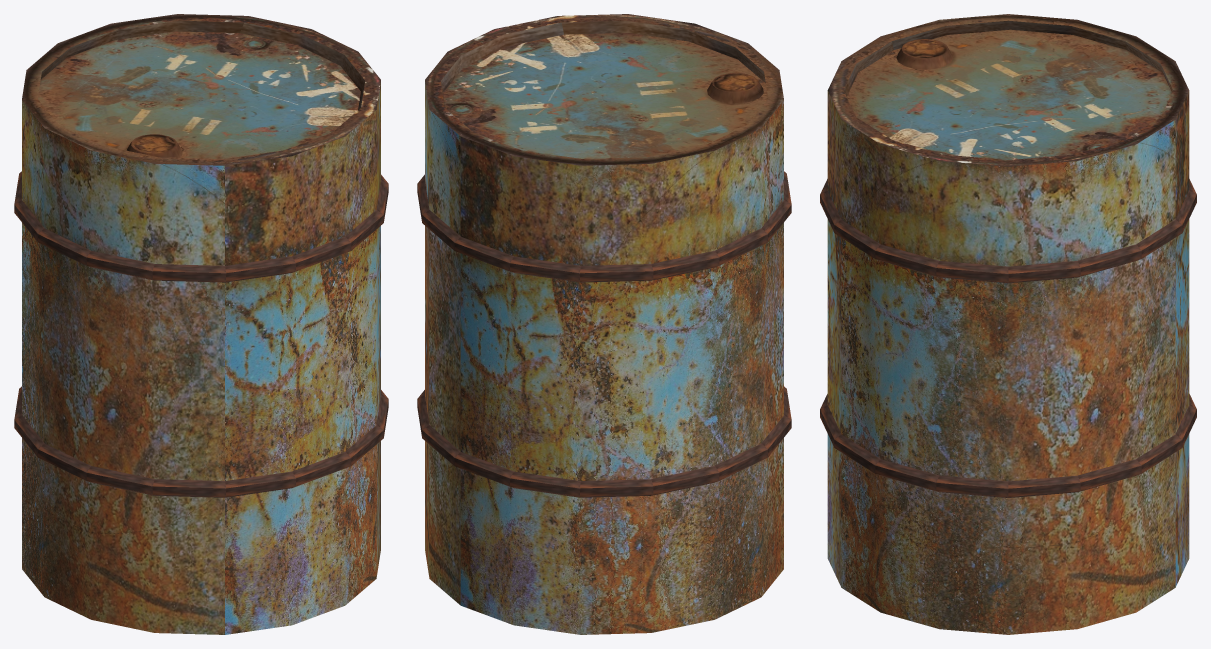
File: Barrel.fbx
The picture shows the model from 3 angles, left to right: view 1: azimuth 30°, elevation 25°; view 2: azimuth 150°, elevation 25°; view 3: azimuth 270°, elevation 25°; orthographic projection.
Visible parts, largest first — view 1: Cylinder.001; view 2: Cylinder.001; view 3: Cylinder.001.
Part boxes in pixels (x1=…): Cylinder.001: x1=14, y1=14, x2=388, y2=634; Cylinder.001: x1=417, y1=14, x2=791, y2=634; Cylinder.001: x1=820, y1=14, x2=1196, y2=634.
Size of the model in its own units: 292 by 400 by 292.
